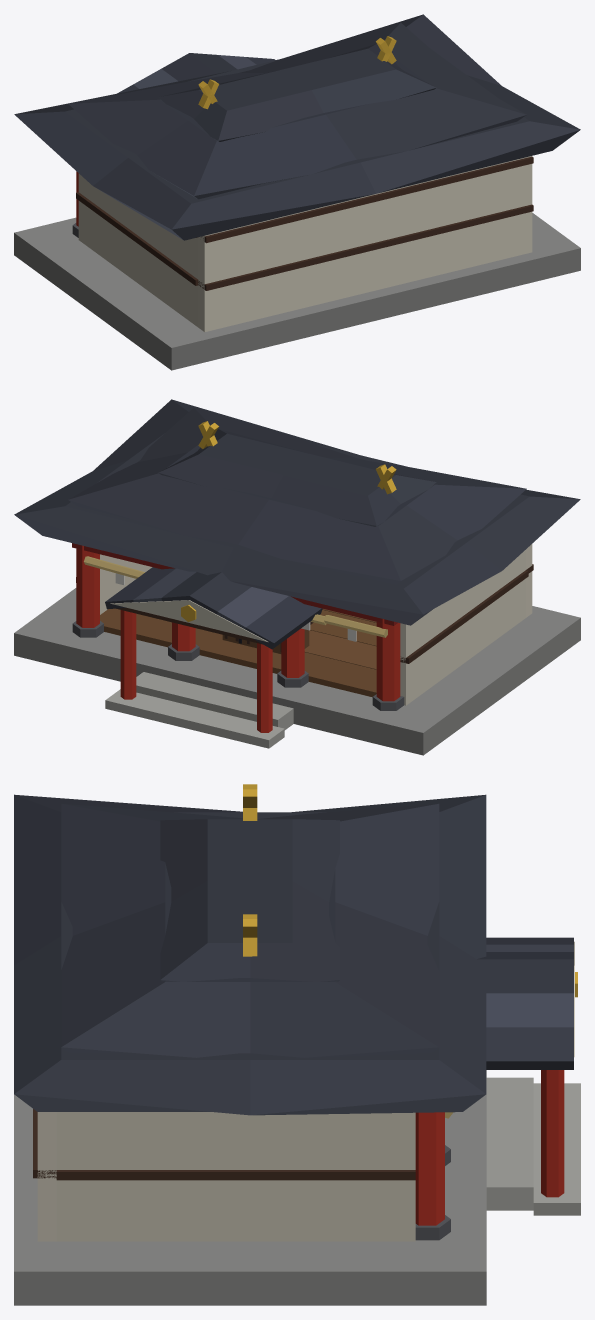
File: Decor_SamuraiShrine_ShrineHall.fbx
3 renders of one model, top to bottom at view 1: azimuth 30°, elevation 25°; view 2: azimuth 150°, elevation 25°; view 3: azimuth 270°, elevation 25°, orthographic. The views are drawn at different scales.
Parts seen in each view (by area): view 1: ShrineHall_Body; view 2: ShrineHall_Body; view 3: ShrineHall_Body.
Boxes of the visible parts, x1,y1,x2,y2 form: ShrineHall_Body: (14,14,580,370); ShrineHall_Body: (14,399,580,755); ShrineHall_Body: (14,784,580,1305).
Bounding box in the file's own units: 30 × 14.2 × 24.
